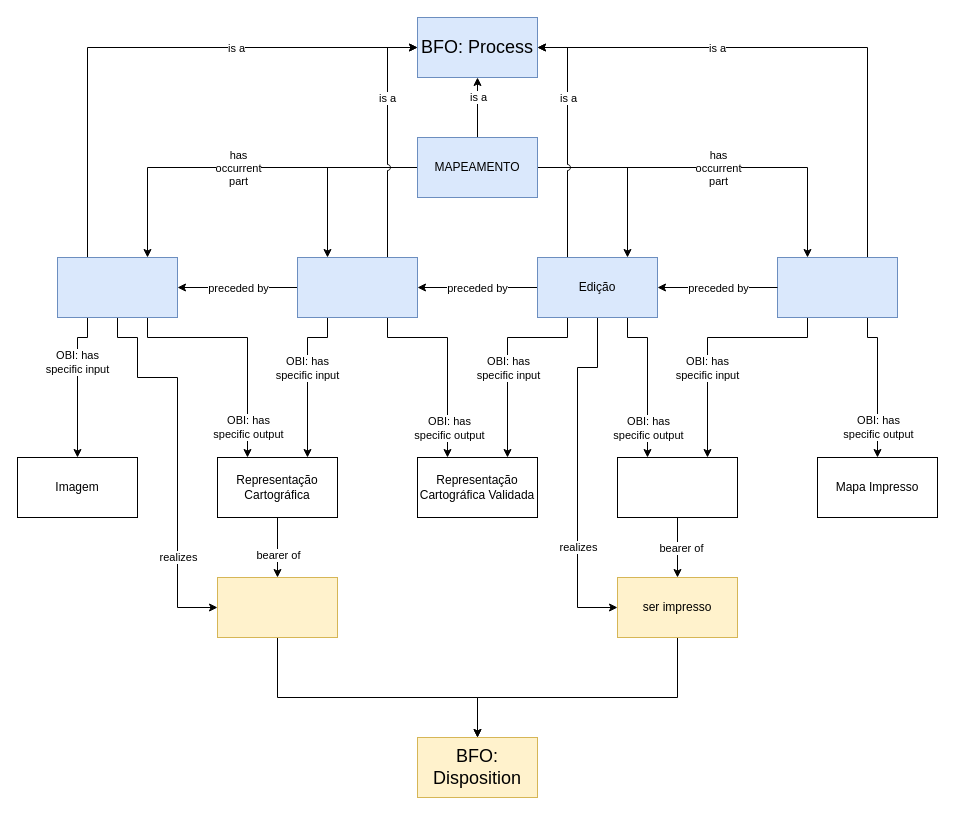
Image size: 955x815. Some labels were removed from this diagram. Here are the shapes that lost their labels. From the top down, the centre of each, then its label:
point 117,287: Aquisição Vetorial
point 357,287: Validação Vetorial
point 837,287: Impressão
point 677,487: Mapa Editado
point 277,607: ser valida
